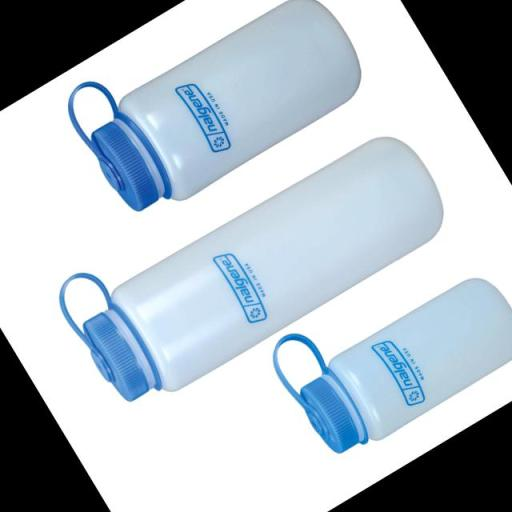bottle: (44, 87, 462, 423), (54, 0, 379, 234), (259, 226, 512, 470)
